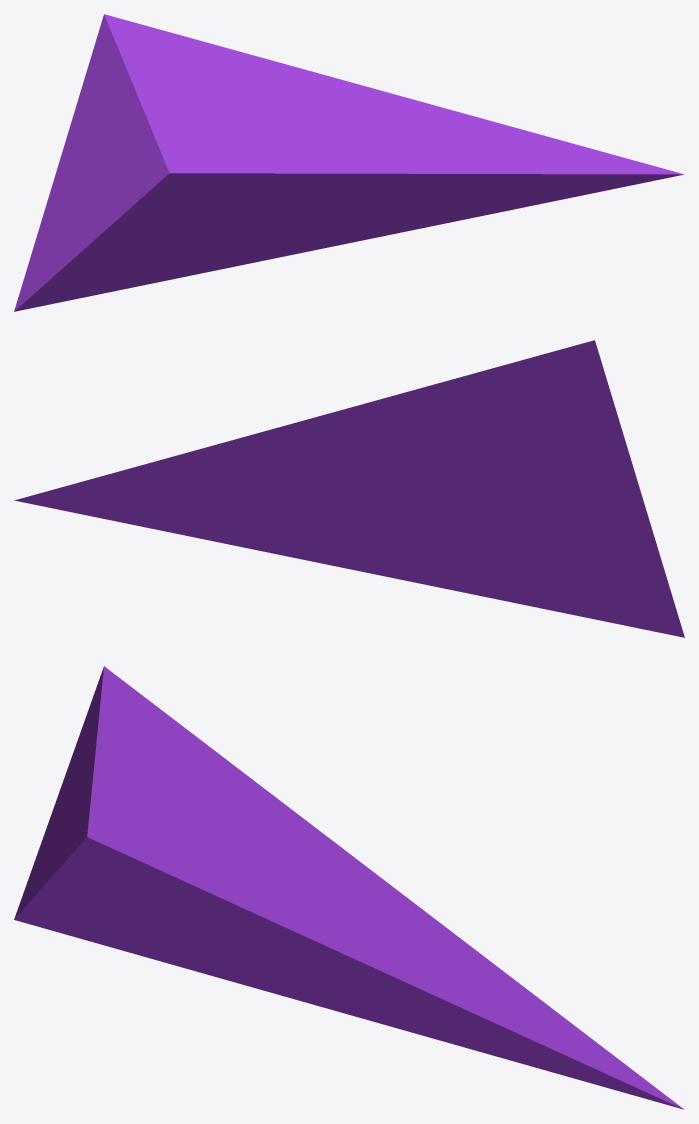
File: Glass_85_0_chunks.fbx
3 views of the same model, one above another, from view 1: azimuth 30°, elevation 25°; view 2: azimuth 150°, elevation 25°; view 3: azimuth 330°, elevation 25° (orthographic).
Parts seen in each view (by area): view 1: Glass_85_0_0; view 2: Glass_85_0_0; view 3: Glass_85_0_0.
Part boxes in pixels (x1=…): Glass_85_0_0: x1=14, y1=14, x2=684, y2=311; Glass_85_0_0: x1=14, y1=340, x2=684, y2=637; Glass_85_0_0: x1=14, y1=666, x2=684, y2=1109.
Bounding box in the file's own units: 141 × 60.53 × 14.96.
